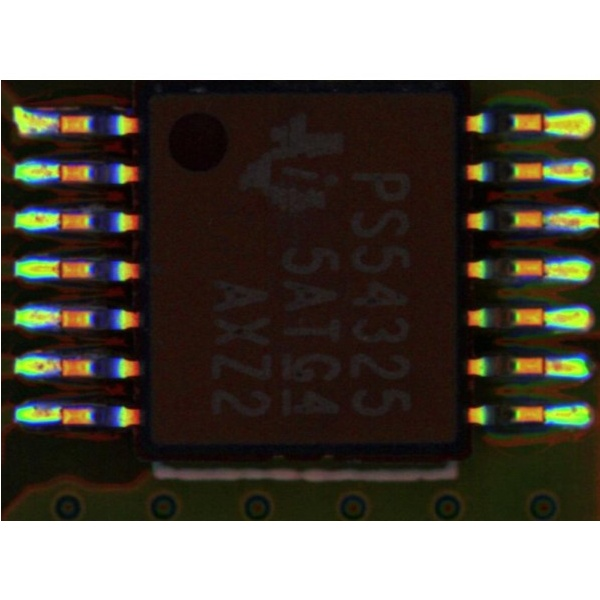Bad_podu: (529, 358, 560, 371), (527, 261, 559, 273), (530, 117, 557, 129), (44, 262, 72, 273)
